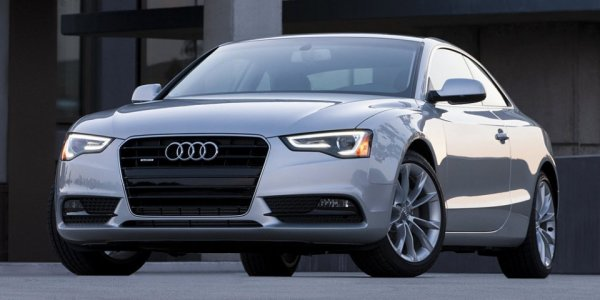audi: (158, 139, 223, 163)
